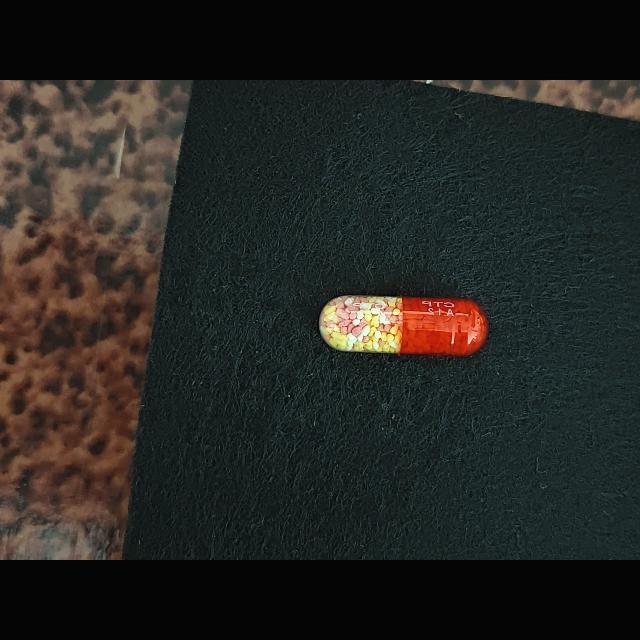Intact Capsule: (319, 295, 488, 356)
